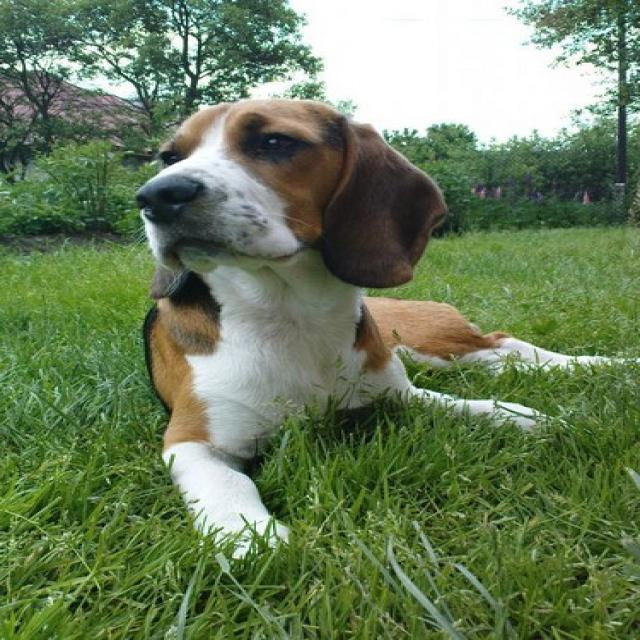dog: (130, 96, 445, 297)
